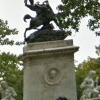Statue: (11, 3, 85, 51)
